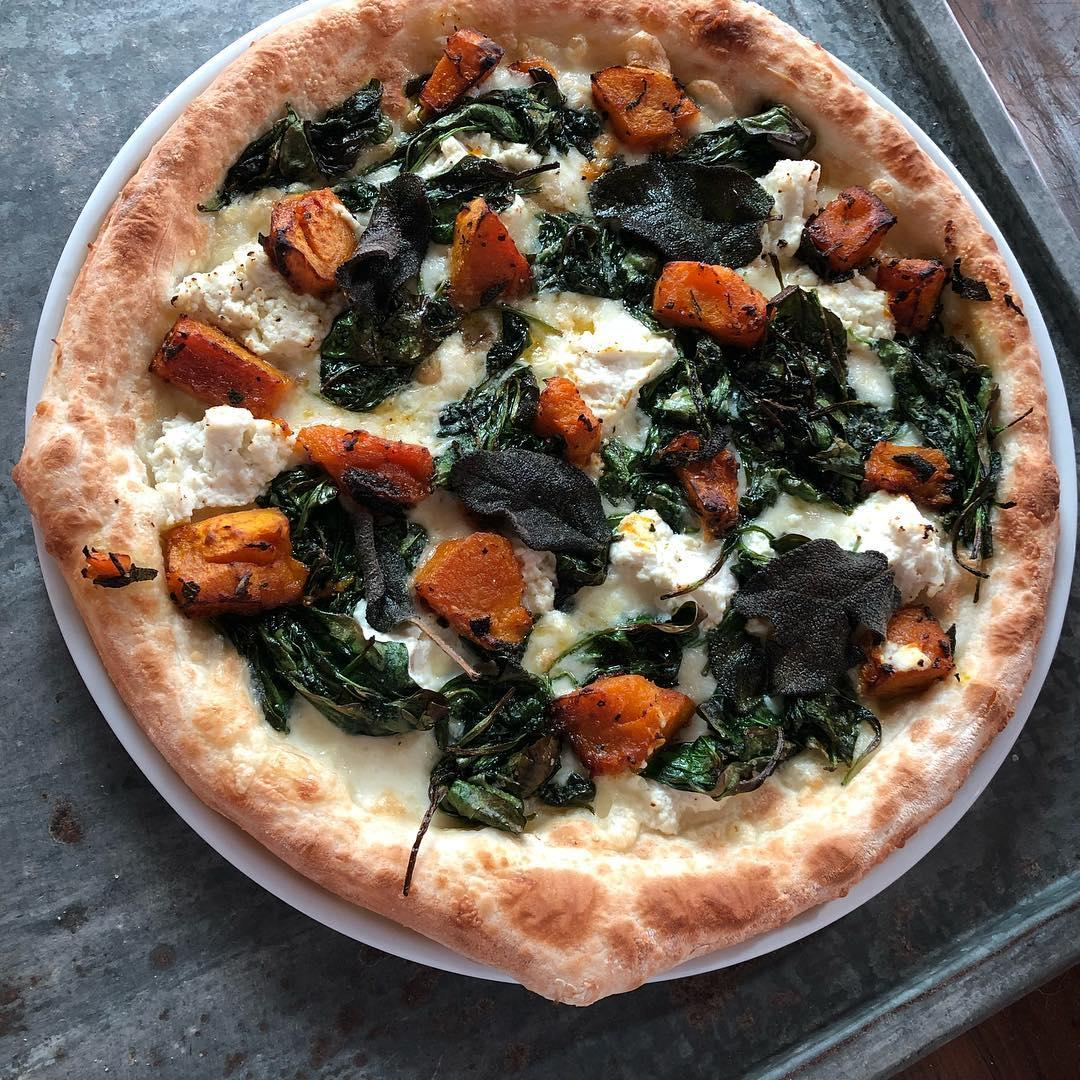Basil: (287, 479, 419, 730), (888, 341, 998, 529), (654, 348, 870, 430), (675, 691, 856, 781), (447, 673, 558, 812), (218, 103, 394, 184), (321, 303, 454, 406)
Cheese: (525, 290, 680, 448), (756, 498, 962, 595), (178, 236, 324, 365), (601, 515, 736, 634), (161, 401, 287, 508), (753, 263, 892, 347), (376, 342, 493, 440), (753, 160, 818, 258), (434, 137, 581, 175), (845, 340, 899, 410)
Peppers: (159, 505, 287, 623), (419, 532, 533, 658), (558, 676, 675, 778), (165, 324, 276, 410), (454, 194, 534, 304), (654, 260, 768, 337), (804, 187, 892, 280), (862, 606, 956, 693), (591, 64, 693, 143), (665, 430, 742, 534), (296, 422, 435, 479), (270, 193, 354, 287), (421, 29, 500, 109), (536, 376, 602, 464), (894, 258, 951, 340)
Pizza: (27, 0, 1060, 955)
